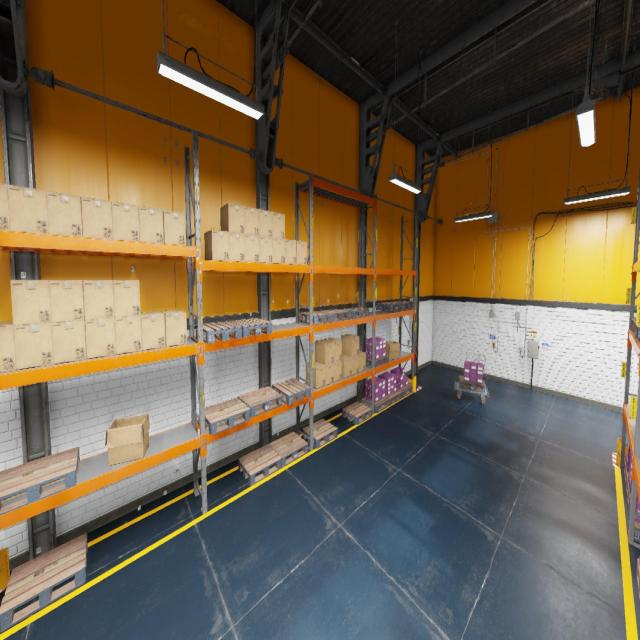box: (105, 414, 150, 465), (8, 184, 48, 234), (10, 280, 51, 326), (13, 323, 53, 370), (46, 191, 83, 237), (51, 320, 86, 364), (49, 280, 84, 322), (81, 196, 113, 240), (84, 317, 116, 358), (83, 280, 114, 320), (111, 201, 140, 241), (114, 316, 142, 354), (112, 280, 140, 317), (161, 309, 187, 347), (138, 206, 164, 243), (141, 311, 165, 350), (0, 321, 16, 372), (163, 210, 186, 245), (204, 229, 229, 261), (220, 202, 244, 234), (306, 361, 325, 389), (314, 340, 334, 364), (0, 183, 10, 231), (229, 232, 245, 262), (323, 338, 342, 362), (244, 206, 259, 235), (245, 234, 259, 263), (341, 334, 359, 356), (259, 236, 273, 263), (272, 211, 285, 239), (259, 209, 272, 237), (343, 354, 359, 375), (273, 238, 285, 264), (285, 239, 296, 264), (386, 341, 400, 360), (297, 240, 307, 265), (342, 354, 352, 378), (325, 363, 334, 385), (334, 360, 342, 382), (359, 351, 365, 372)
pallets: (0, 534, 88, 632), (0, 447, 79, 515), (238, 444, 282, 486), (205, 398, 250, 435), (268, 431, 308, 467), (238, 387, 282, 418), (302, 418, 338, 448), (195, 321, 242, 343), (272, 378, 310, 405), (229, 318, 272, 337), (342, 401, 372, 425), (628, 499, 640, 543), (299, 311, 333, 325), (361, 397, 390, 413), (460, 376, 486, 392), (318, 309, 351, 321), (342, 308, 369, 318), (366, 355, 388, 367), (385, 390, 402, 405), (376, 302, 403, 311), (397, 384, 412, 398), (388, 301, 414, 309), (636, 558, 640, 604), (626, 477, 630, 510), (633, 322, 640, 338), (624, 459, 628, 487), (630, 318, 636, 332)
